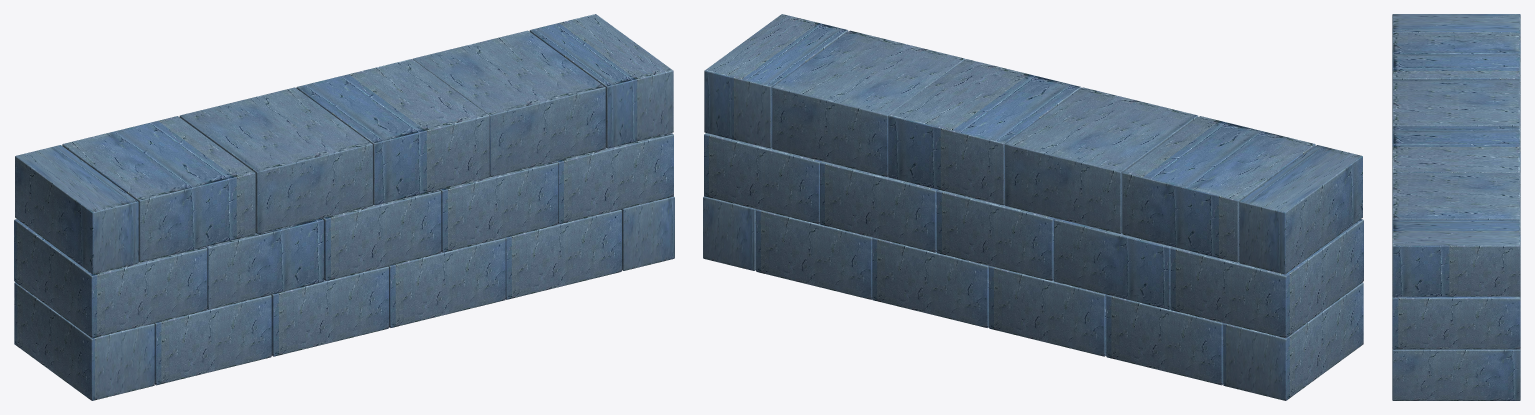
File: wall.fbx
3 renders of one model, left to right at view 1: azimuth 30°, elevation 25°; view 2: azimuth 150°, elevation 25°; view 3: azimuth 270°, elevation 25°, orthographic. The views are drawn at different scales.
Visible parts, largest first — view 1: Null; view 2: Null; view 3: Null.
Boxes of the visible parts, bbox=[...] form: Null: bbox=[14, 14, 674, 400]; Null: bbox=[703, 14, 1363, 400]; Null: bbox=[1392, 14, 1520, 400].
Size of the model in its own units: 687 by 213 by 159.
